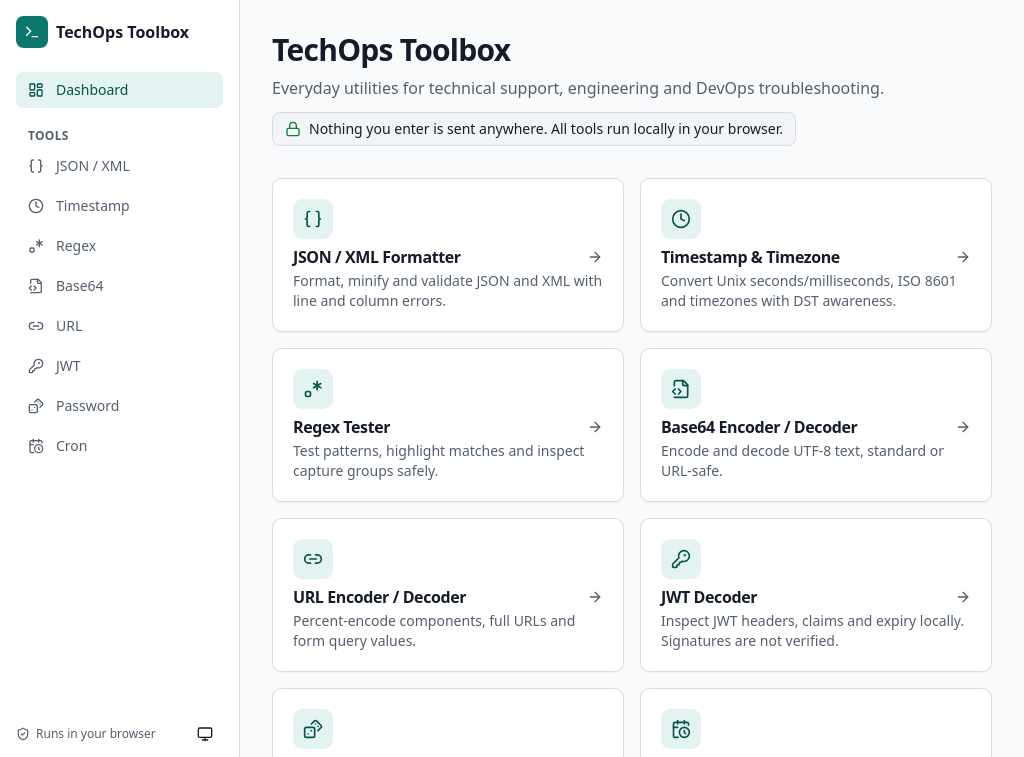
Test: navigation › navigates from a dashboard card to the tool page and back via the sidebar
What coordinates should you click on to do the following:
click the link "Base64 Encoder"
I would click on:
 (816, 425)
Its box is 640,348 -> 992,502.
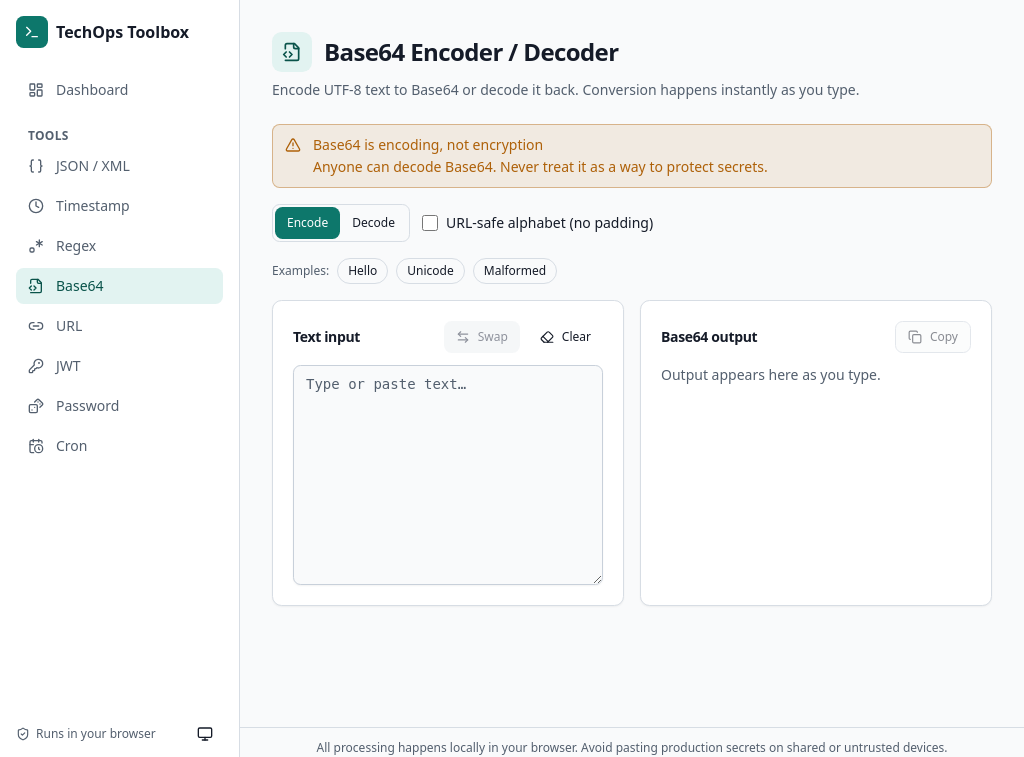
Check: the heading "Base64 Encoder / Decoder" is shown, box 324,36 -> 618,68
What coordinates should you click on to do the following:
click the link "Dashboard"
I would click on:
 (78, 90)
Its box is 28,80 -> 128,99.
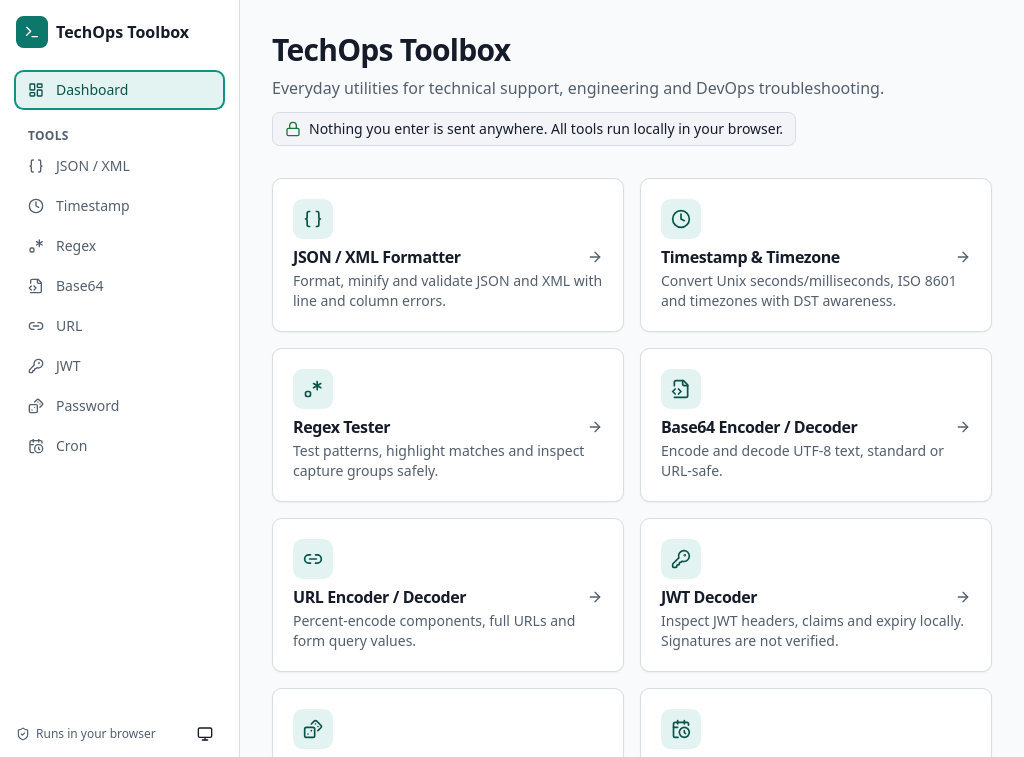
Check: the heading "TechOps Toolbox" is shown, box 272,29 -> 510,70
